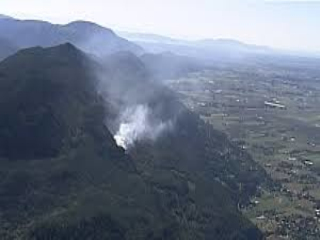smoke: (108, 99, 175, 156)
